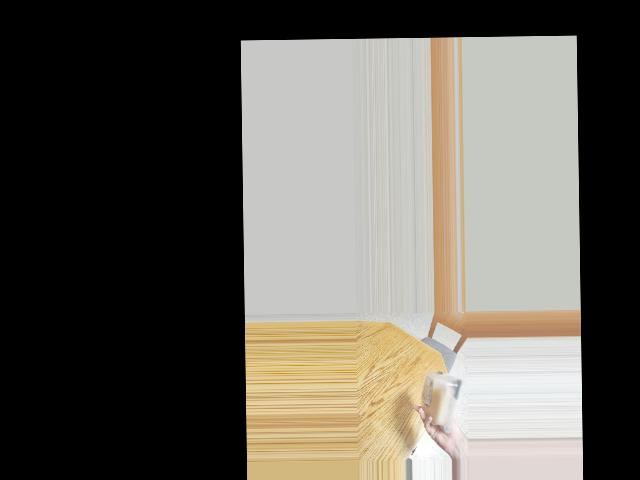cheese: (418, 369, 461, 427)
